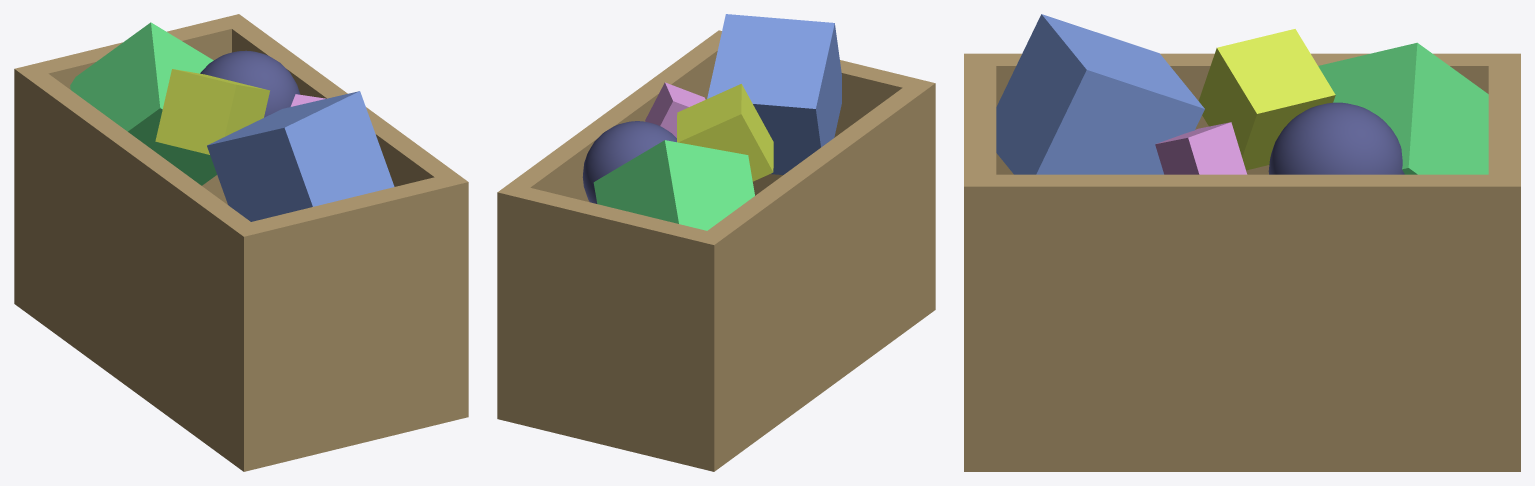
Rendered from ToyBox.fbx.
3 views of the same model, side by side, from view 1: azimuth 30°, elevation 25°; view 2: azimuth 150°, elevation 25°; view 3: azimuth 270°, elevation 25° (orthographic). The views are drawn at different scales.
Visible parts, largest first — view 1: Cube, Cube.001, Cube.003, Cube.002, Sphere; view 2: Cube, Cube.001, Cube.003, Cube.002, Sphere, Cube.004; view 3: Cube, Cube.001, Cube.003, Cube.002, Sphere, Cube.004.
Boxes of the visible parts, left/top/right/bottom form: Cube: left=14, top=14, right=468, bottom=471; Cube.001: left=207, top=91, right=394, bottom=221; Cube.003: left=70, top=22, right=216, bottom=185; Cube.002: left=155, top=69, right=269, bottom=154; Sphere: left=200, top=50, right=300, bottom=117; Cube: left=497, top=30, right=935, bottom=471; Cube.001: left=707, top=14, right=841, bottom=174; Cube.003: left=593, top=140, right=754, bottom=230; Cube.002: left=677, top=84, right=773, bottom=181; Sphere: left=582, top=121, right=676, bottom=203; Cube.004: left=645, top=82, right=705, bottom=137; Cube: left=964, top=53, right=1520, bottom=471; Cube.001: left=996, top=14, right=1204, bottom=174; Cube.003: left=1318, top=42, right=1488, bottom=174; Cube.002: left=1198, top=29, right=1335, bottom=170; Sphere: left=1268, top=102, right=1404, bottom=174; Cube.004: left=1155, top=122, right=1247, bottom=174.
Bounding box in the file's own units: 200 × 258 × 354.
